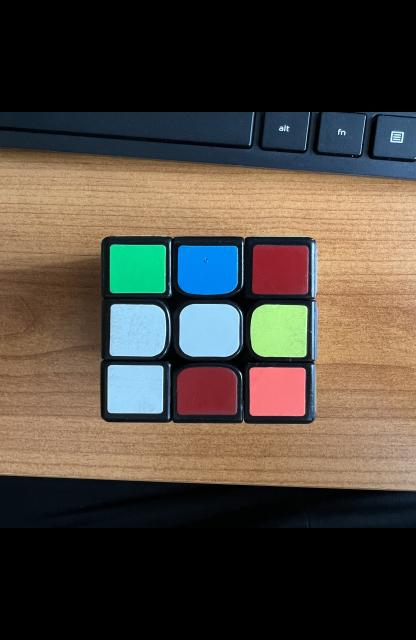Blue: (177, 245, 237, 295)
Green: (108, 244, 166, 293)
Orange: (248, 367, 304, 416)
Red: (176, 367, 237, 415), (250, 245, 308, 295)
White: (178, 304, 239, 357), (108, 304, 166, 357), (107, 364, 163, 413)
Yellow: (249, 305, 307, 358)
